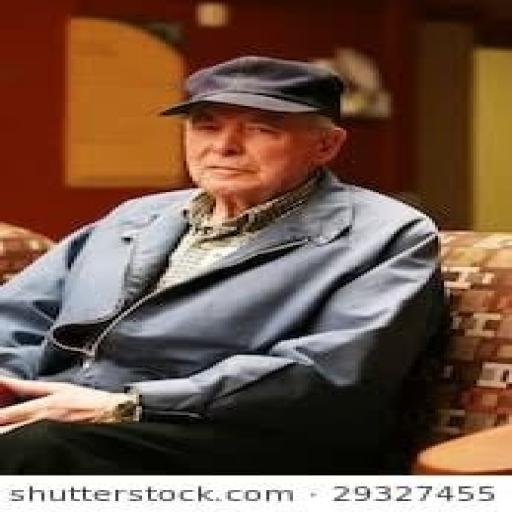sitting: (0, 53, 450, 472)
